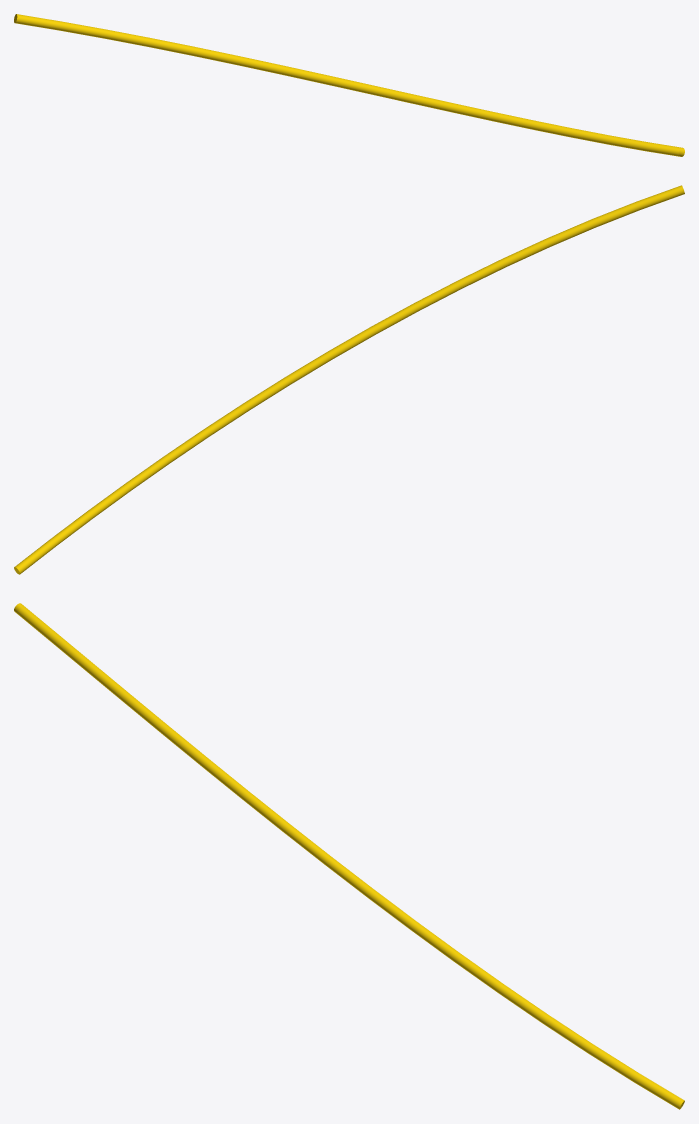
File: Event_421364160_track_88.fbx
3 renders of one model, top to bottom at view 1: azimuth 30°, elevation 25°; view 2: azimuth 210°, elevation 25°; view 3: azimuth 330°, elevation 25°, orthographic. The views are drawn at different scales.
Visible parts, largest first — view 1: Model; view 2: Model; view 3: Model.
Boxes of the visible parts, x1=… form: Model: x1=14, y1=14, x2=684, y2=156; Model: x1=14, y1=185, x2=684, y2=574; Model: x1=14, y1=603, x2=684, y2=1109.
Bounding box in the file's own units: 3.11 × 1.25 × 0.4244.
